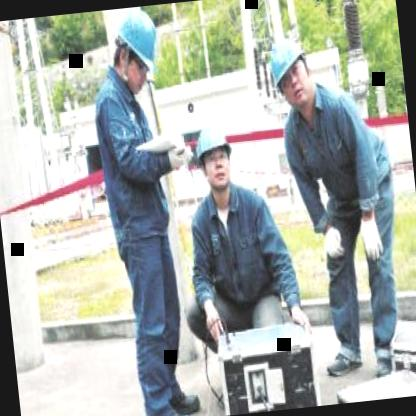helmet: (104, 4, 168, 98), (260, 22, 320, 116), (188, 114, 239, 198)
